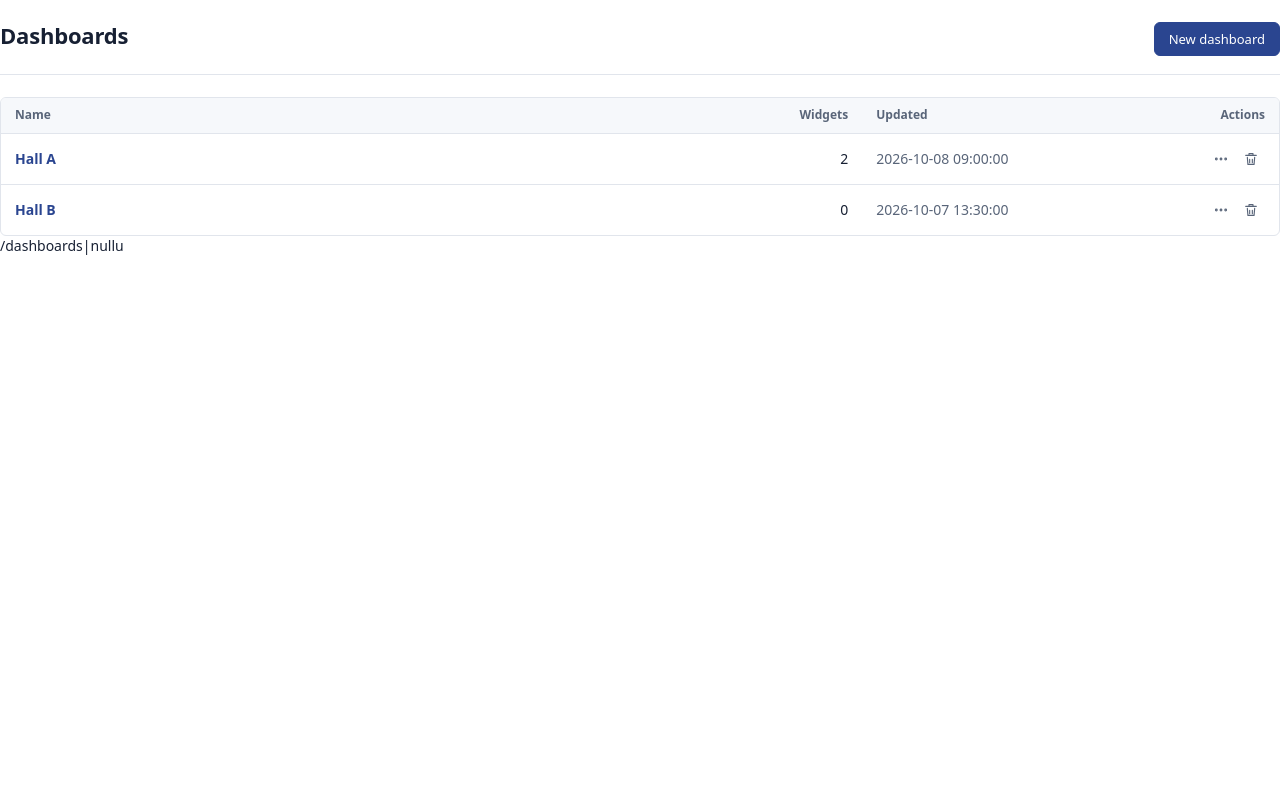
Scenario: DashboardsPage › lets an operator create a dashboard and opens it in edit mode
Click the button "New dashboard".
click(1217, 39)  # box [1154,22,1279,56]
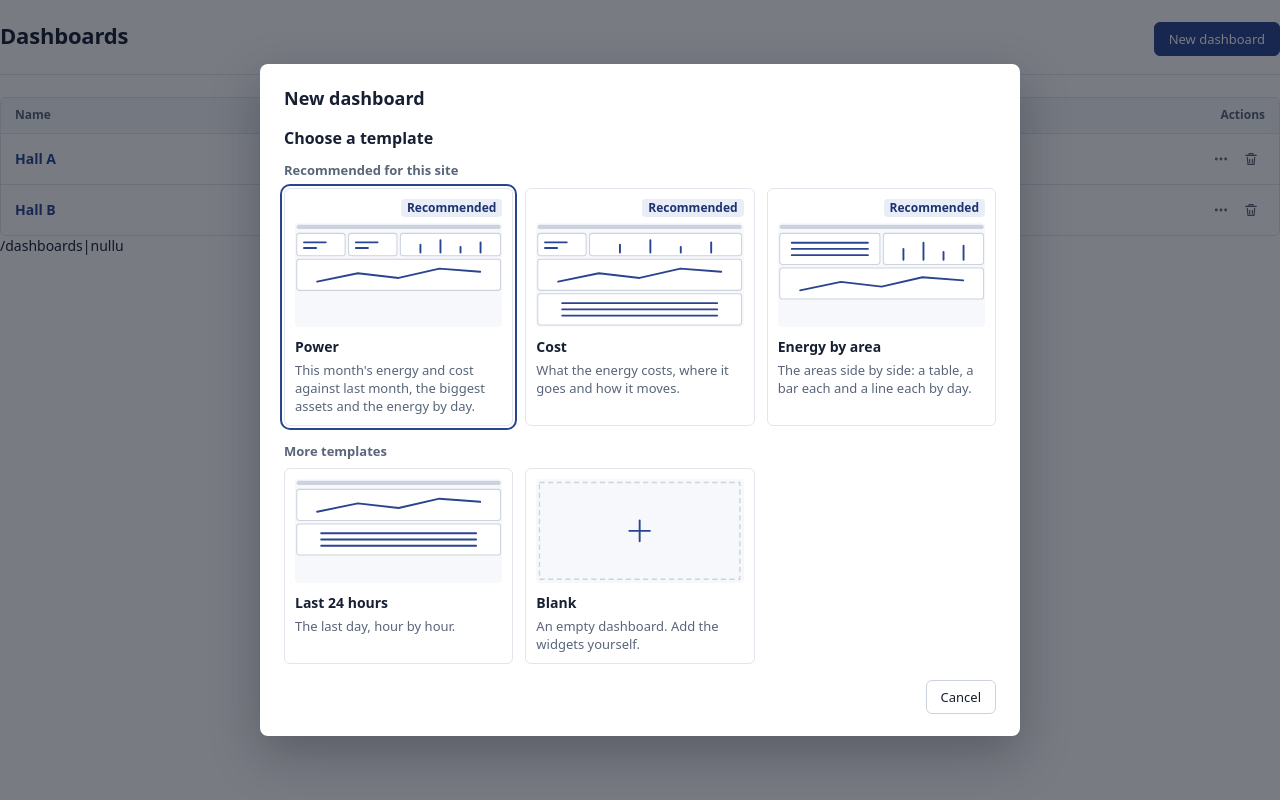
Click the button "Blank".
click(640, 566)  # box [525,468,755,664]
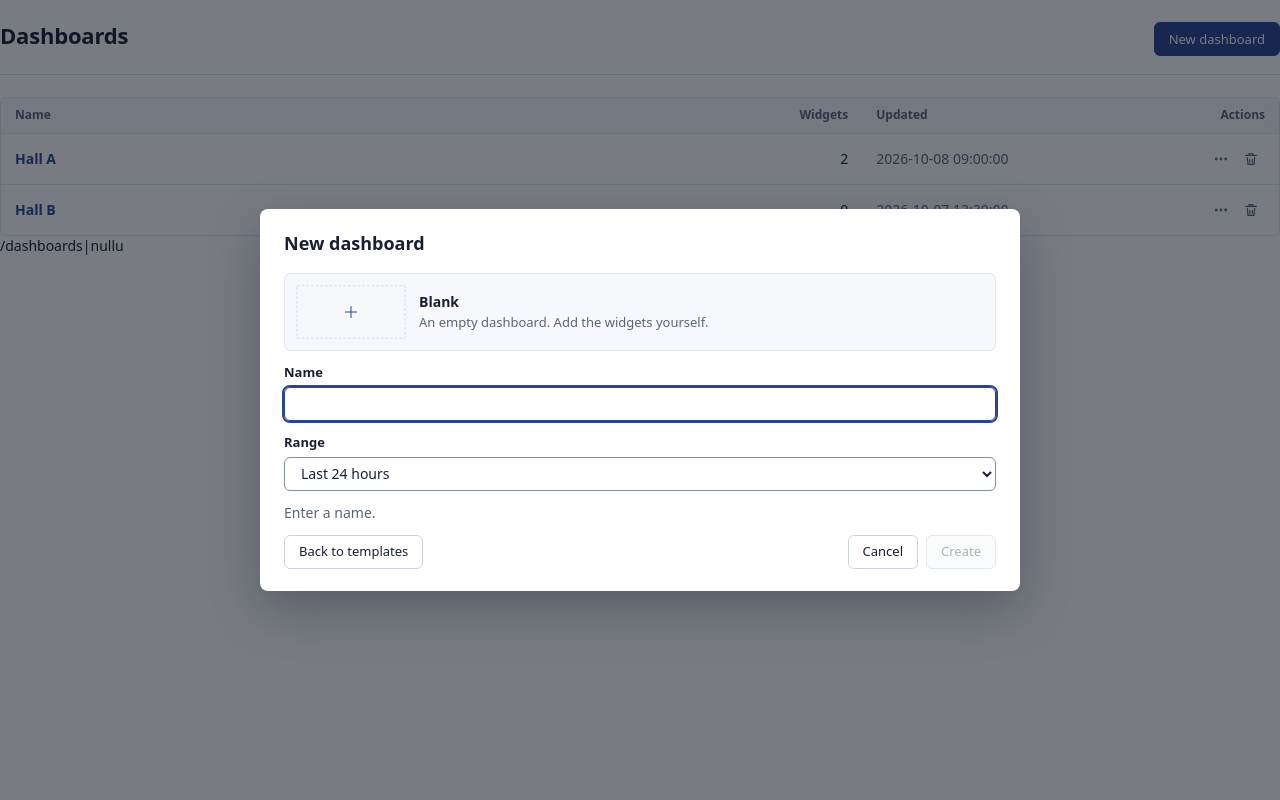
Type "Hall C" into the field labelled "Name".
click(640, 404); type("Hall C")  # box [284,387,996,421]
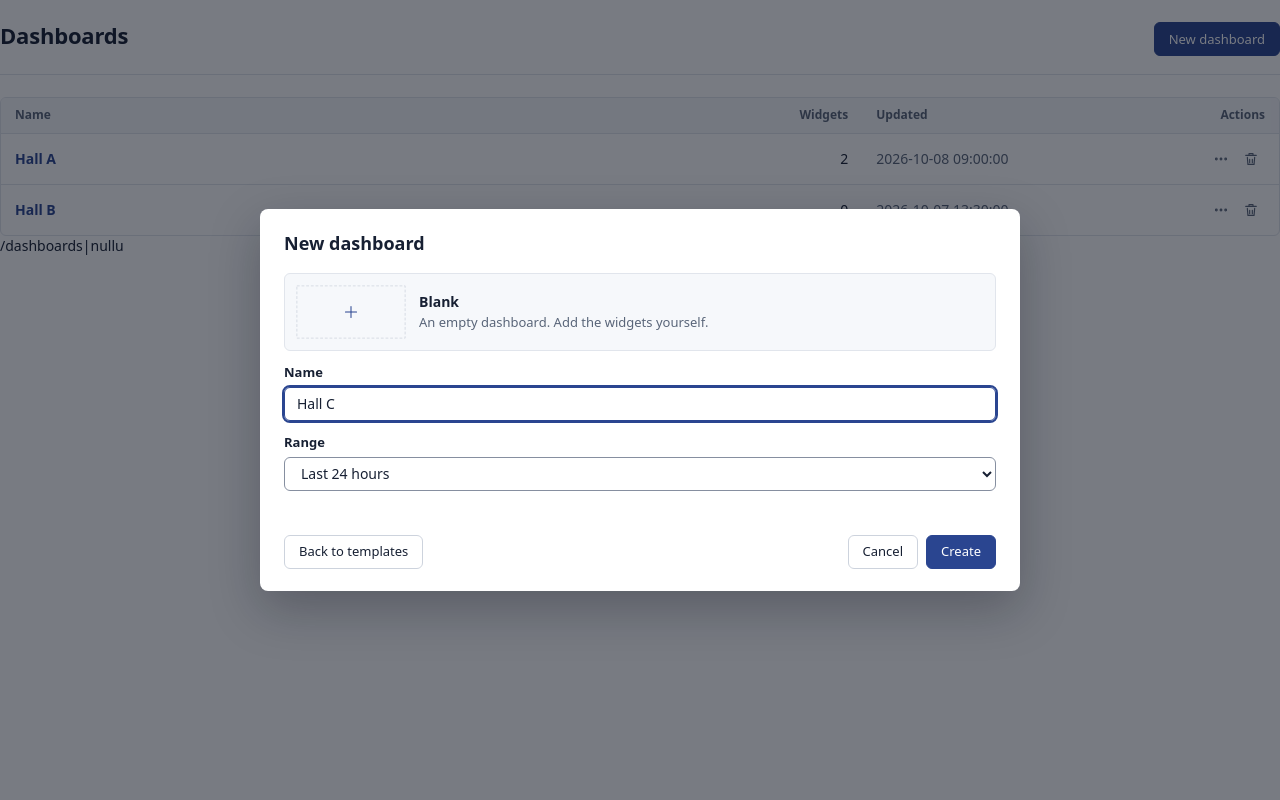
Select "Last 7 days" in the dropdown labelled "Range" at (640, 474), box [284,457,996,491]
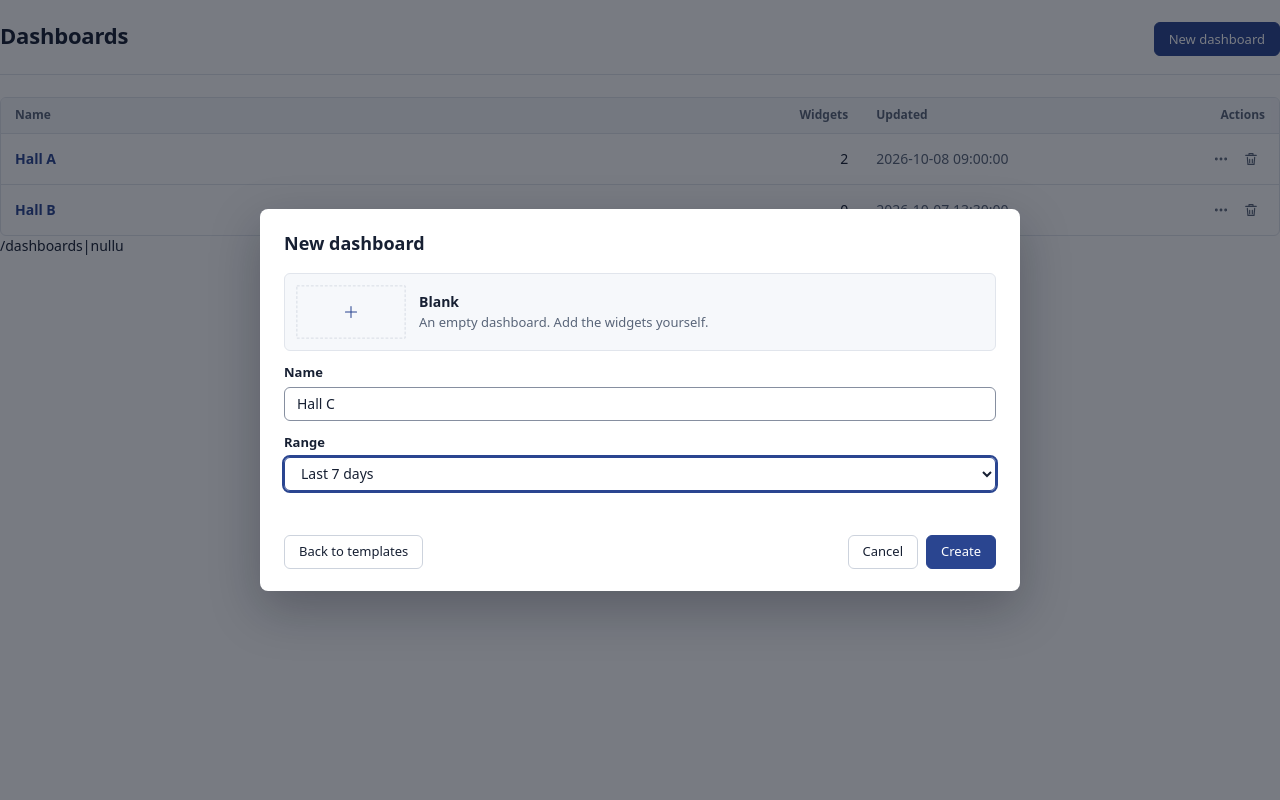
Click the button "Create".
click(961, 552)  # box [926,535,996,569]
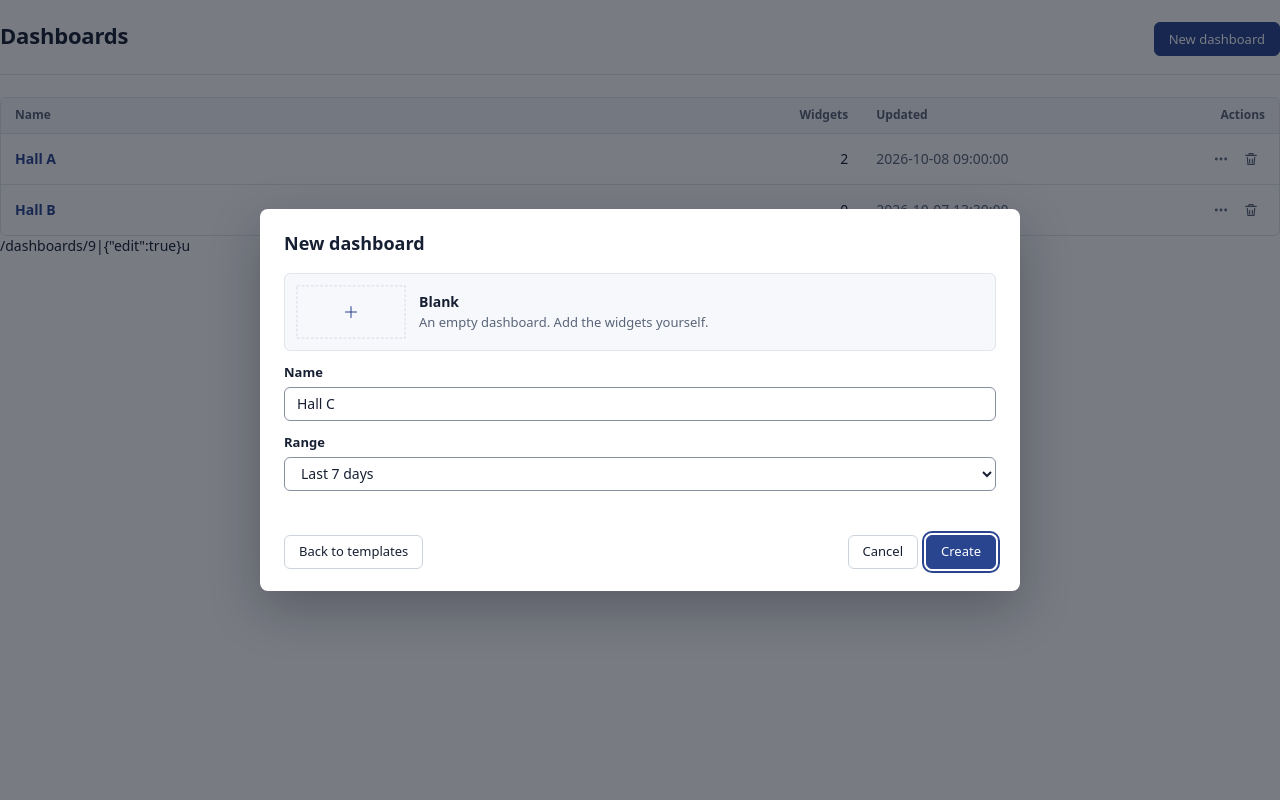
Result: the text with test id "location" reads "/dashboards/9|{\"edit\":true}" at [0,236,182,255]
